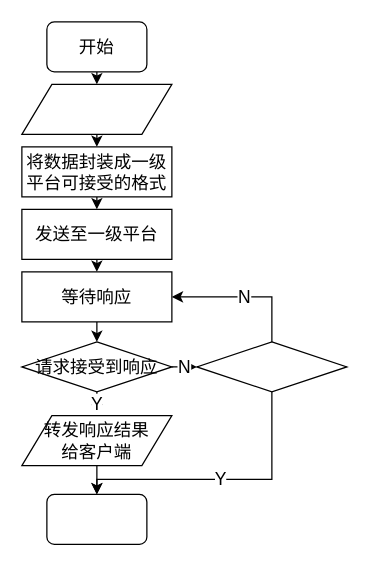
This 369x566 diagram has some shape labels left out. The centre of each missing label's shape, as x and y in pixels:
"结束" goes at pixel 96 518.
"请求是否超时" goes at pixel 271 366.
"输入客户端 请求报文" goes at pixel 96 108.
